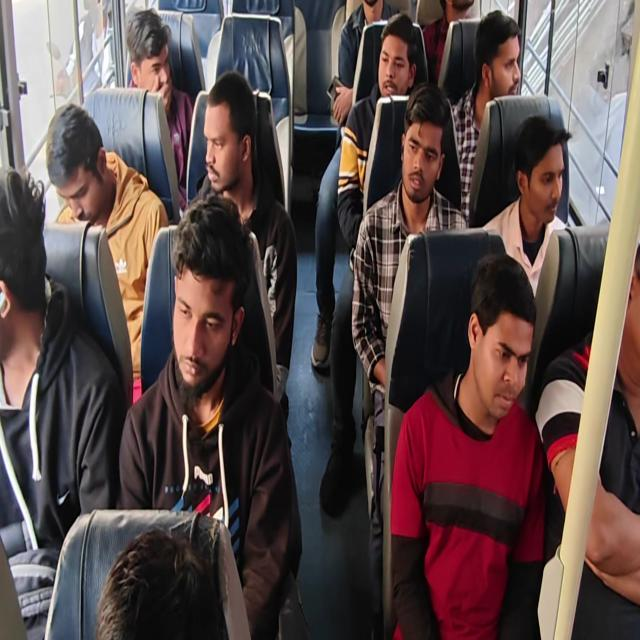person: (90, 516, 248, 636), (169, 188, 244, 416), (459, 250, 534, 423), (0, 148, 55, 360), (42, 108, 120, 226), (198, 68, 259, 198), (514, 111, 578, 218), (472, 1, 528, 111), (401, 74, 447, 205), (117, 13, 177, 99), (608, 227, 640, 382), (374, 8, 420, 104), (437, 0, 483, 27), (351, 0, 386, 16)
